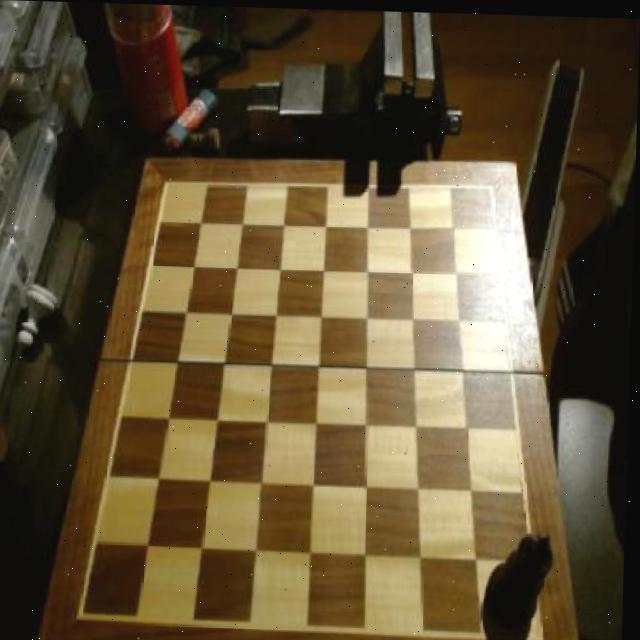black-bishop: (499, 524, 557, 630)
